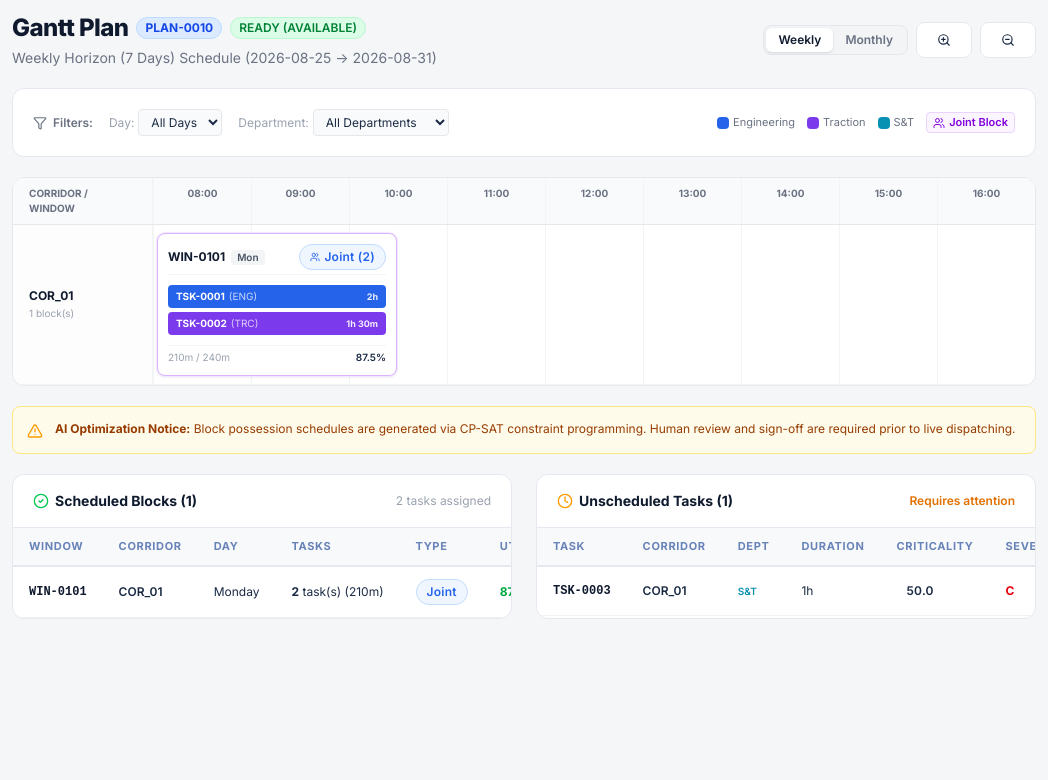
it: GanttPage Component › supports day and department filter changes
Expected: the text "PLAN-0010" is shown, [136,17,222,39]
Note: Change day filter to Tuesday (no blocks on Tue)
Step 1. Select "Tue" in the dropdown next to "Day:" → point(180, 122), box [138,109,222,136]
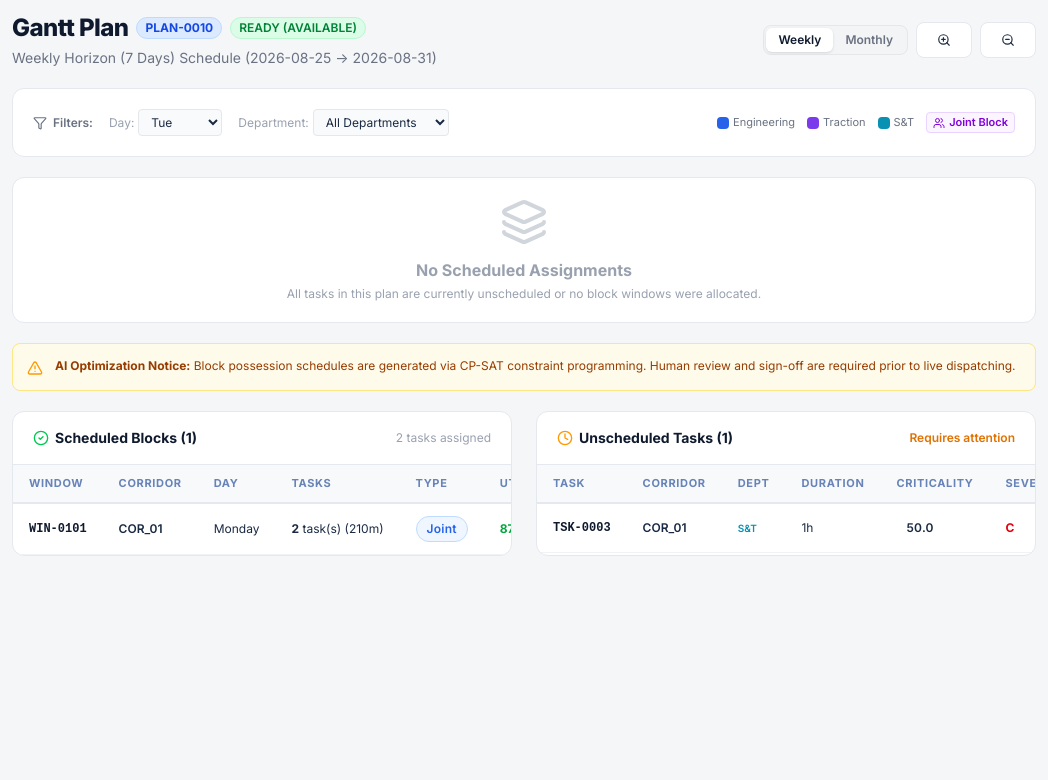
Expected: the heading "No Scheduled Assignments" is shown, [416,260,632,280]
Note: Change back to All Days
Step 2. Select "All Days" in the dropdown next to "Day:" → point(180, 122), box [138,109,222,136]
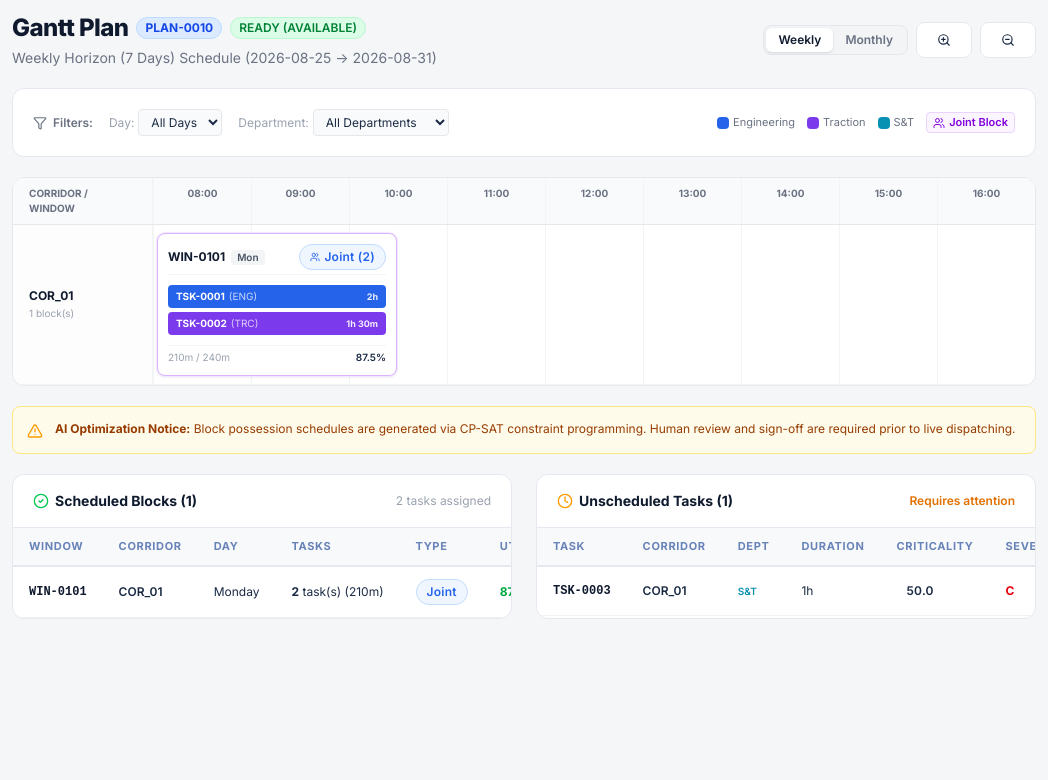
Expected: the text "TSK-0001" is shown, [176,289,225,304]
